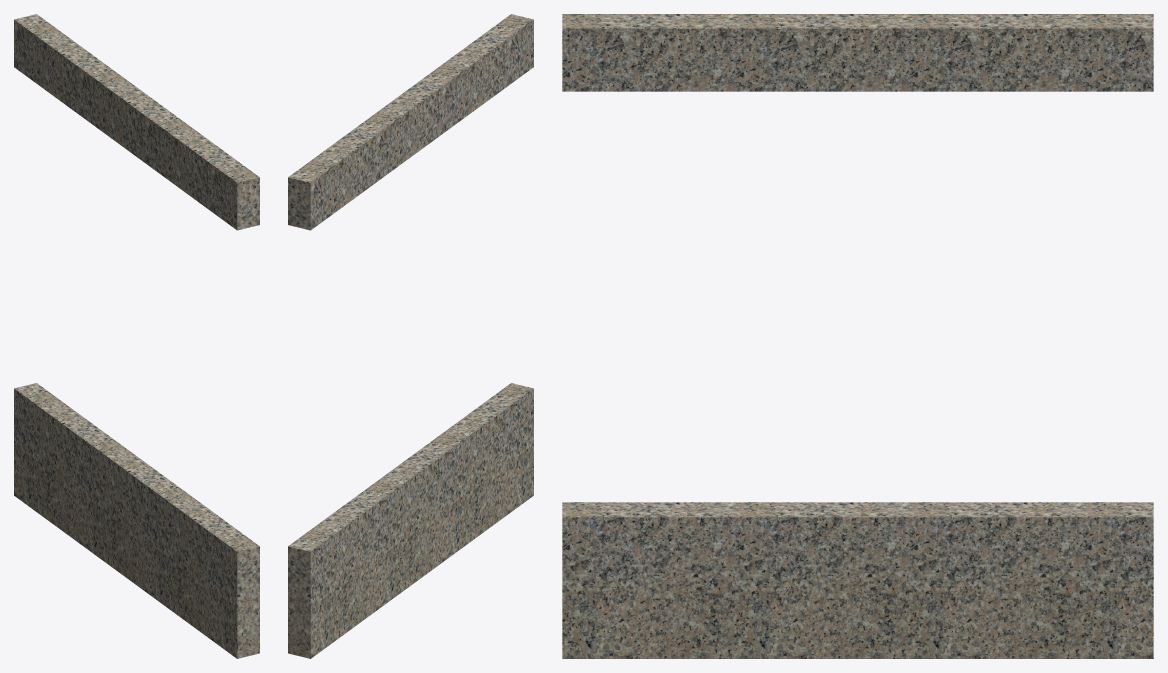
File: Lobby_Wall_13.obj
3 renders of one model, left to right at view 1: azimuth 30°, elevation 25°; view 2: azimuth 150°, elevation 25°; view 3: azimuth 270°, elevation 25°, orthographic. The views are drawn at different scales.
Parts seen in each view (by area): view 1: Lobby_Wall_13; view 2: Lobby_Wall_13; view 3: Lobby_Wall_13.
Part boxes in pixels (x1,y1,x2,y2): Lobby_Wall_13: [14, 14, 259, 658]; Lobby_Wall_13: [288, 14, 533, 658]; Lobby_Wall_13: [562, 14, 1153, 658].
Bounding box in the file's own units: 0.2 × 4 × 3.4.
1 material, 1 textured.
